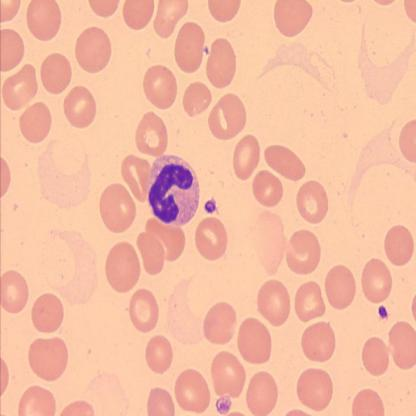Band Neutrophil: (144, 151, 201, 229)
